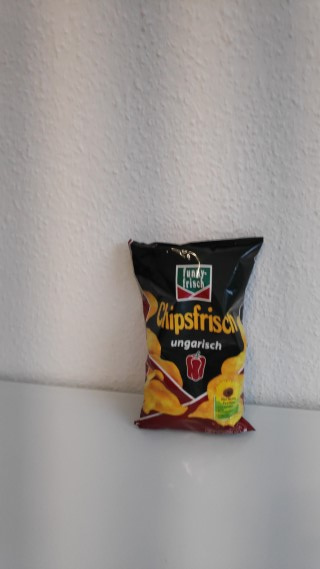chipsfrisch: (127, 235, 264, 435)
